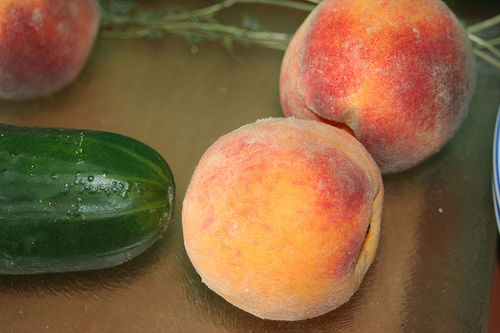cucumber: (0, 122, 178, 278)
